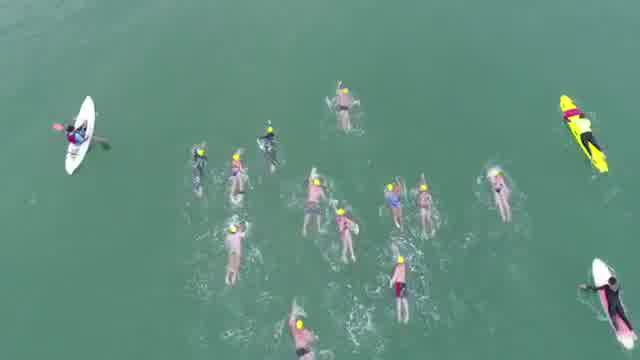swimmer: (330, 203, 362, 263), (392, 248, 414, 328), (482, 170, 512, 227), (289, 307, 317, 359), (302, 166, 322, 234), (225, 150, 248, 206), (222, 220, 240, 290), (334, 84, 357, 138), (418, 175, 436, 239), (190, 138, 207, 204), (384, 177, 406, 228)
